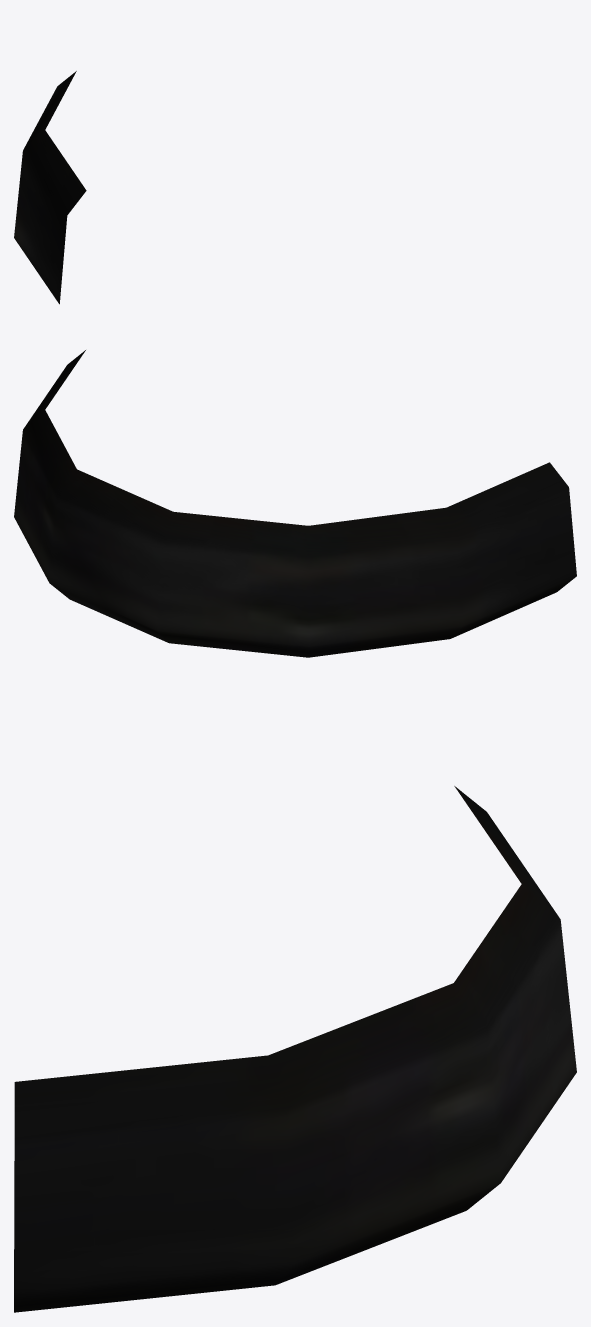
Rendered from simpleBandanaR.glb.
3 views of the same model, one above another, from view 1: azimuth 30°, elevation 25°; view 2: azimuth 150°, elevation 25°; view 3: azimuth 270°, elevation 25° (orthographic). The views are drawn at different scales.
Visible parts, largest first — view 1: simpleBandanaR; view 2: simpleBandanaR; view 3: simpleBandanaR.
Part boxes in pixels (box(x1,y1,x2,y2)): simpleBandanaR: box(14, 71, 86, 304); simpleBandanaR: box(14, 350, 576, 657); simpleBandanaR: box(14, 786, 576, 1312).
Size of the model in its own units: 0.2158 by 0.0512 by 0.1162.
Materials: 1 (1 with a texture image).
